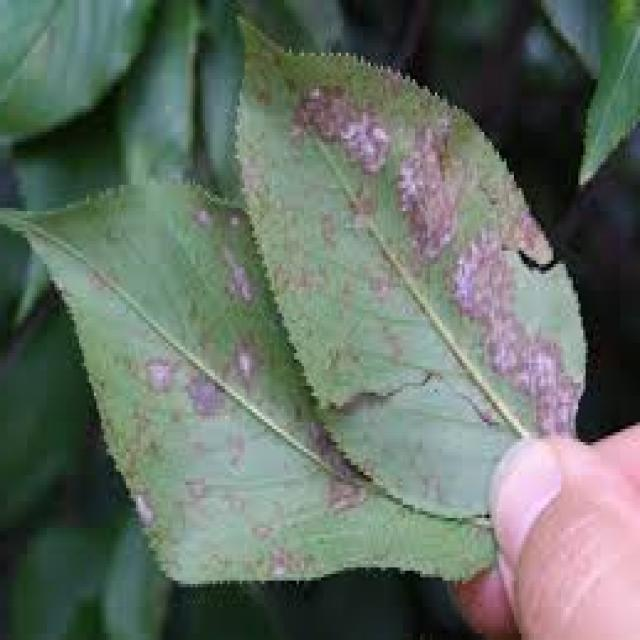black-spot: (399, 144, 513, 442), (263, 50, 425, 178), (123, 359, 249, 448)
